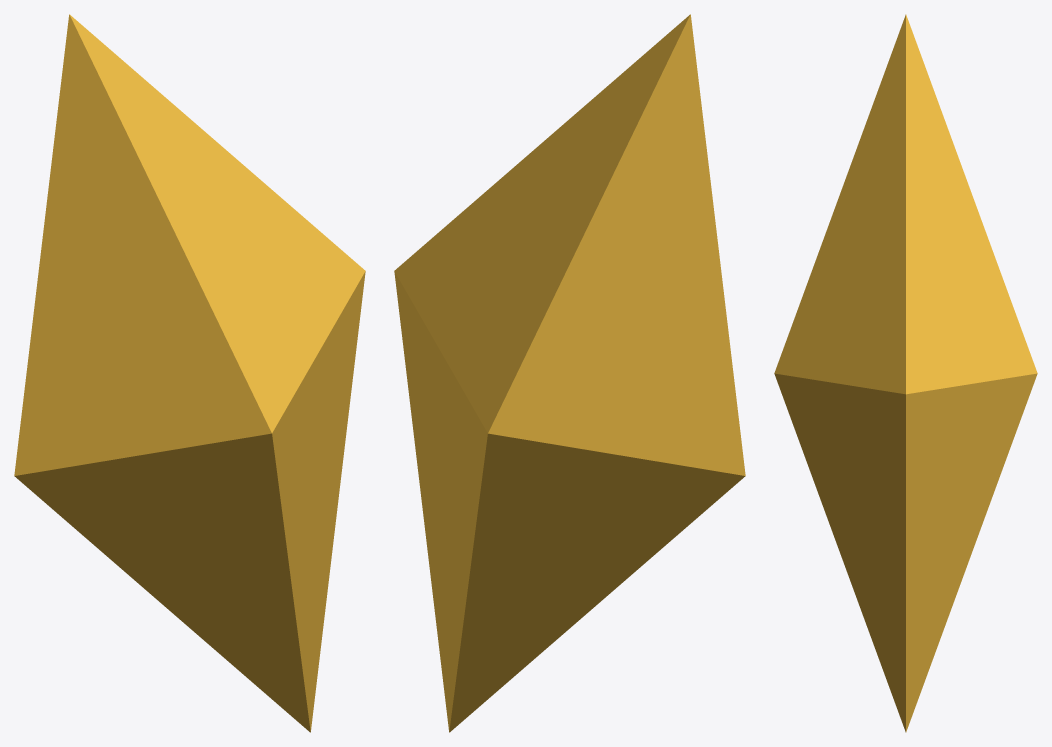
The model's file is sunstone_shard.glb.
3 renders of one model, left to right at view 1: azimuth 30°, elevation 25°; view 2: azimuth 150°, elevation 25°; view 3: azimuth 270°, elevation 25°, orthographic. The views are drawn at different scales.
Visible parts, largest first — view 1: sunstone_shard; view 2: sunstone_shard; view 3: sunstone_shard.
Boxes of the visible parts, left/top/right/bottom form: sunstone_shard: left=14, top=14, right=365, bottom=732; sunstone_shard: left=394, top=14, right=745, bottom=732; sunstone_shard: left=774, top=14, right=1037, bottom=732.
Size of the model in its own units: 0.4945 by 1.05 by 0.4.
